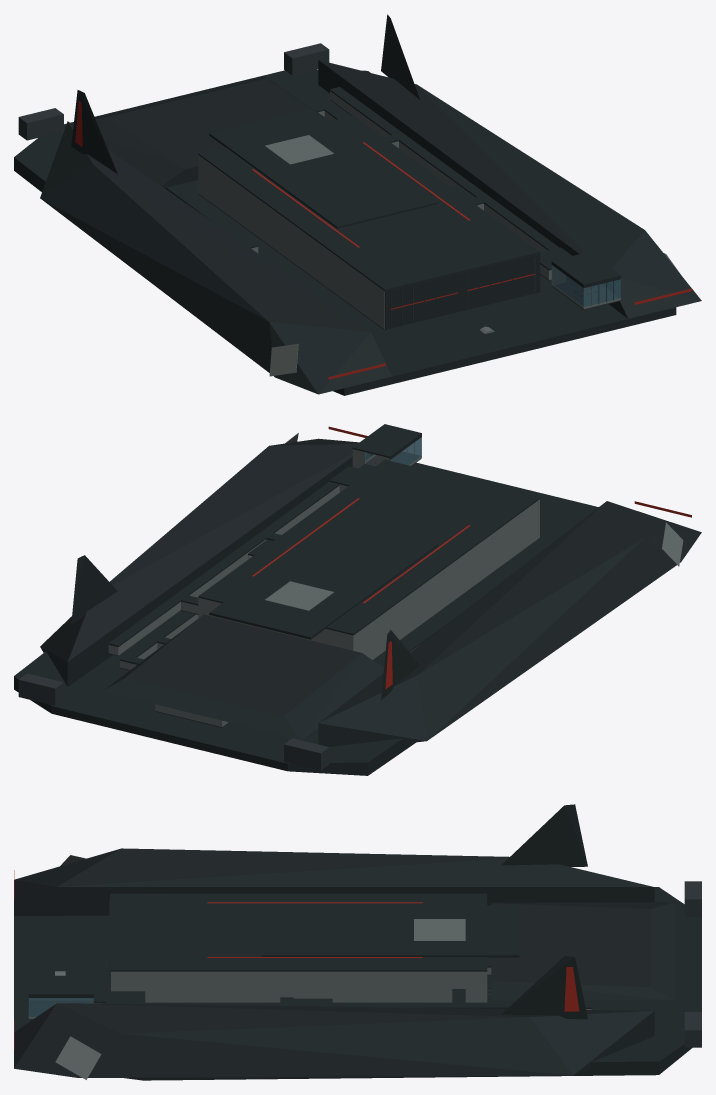
3 renders of one model, top to bottom at view 1: azimuth 30°, elevation 25°; view 2: azimuth 150°, elevation 25°; view 3: azimuth 270°, elevation 25°, orthographic.
Parts seen in each view (by area): view 1: mothership-roof-painted, mothership-side-hull--1-painted, mothership-side-hull-1-painted, mothership-painted, mothership-interior-walls-painted, mothership-door-1-painted, mothership-door--1-painted, breakaway-mothership-fin--1-painted, mothership-interior-walls-glazing, breakaway-mothership-fin-1-painted; view 2: mothership-roof-painted, mothership-side-hull--1-painted, mothership-side-hull-1-painted, mothership-painted, mothership-interior-walls-painted, breakaway-mothership-fin-1-painted, breakaway-mothership-fin--1-painted; view 3: mothership-roof-painted, mothership-side-hull-1-painted, mothership-side-hull--1-painted, mothership-painted, mothership-interior-walls-painted, breakaway-mothership-fin-1-painted, breakaway-mothership-fin--1-painted, mothership-interior-walls-glazing.
Part boxes in pixels (<box>): mothership-roof-painted: <box>66,75,621,290</box>; mothership-side-hull--1-painted: <box>40,121,391,394</box>; mothership-side-hull-1-painted: <box>318,60,701,318</box>; mothership-painted: <box>14,43,676,395</box>; mothership-interior-walls-painted: <box>164,91,620,329</box>; mothership-door-1-painted: <box>462,253,540,310</box>; mothership-door--1-painted: <box>385,272,462,329</box>; breakaway-mothership-fin--1-painted: <box>71,90,117,173</box>; mothership-interior-walls-glazing: <box>551,265,620,307</box>; breakaway-mothership-fin-1-painted: <box>381,14,419,99</box>; mothership-roof-painted: <box>102,424,540,739</box>; mothership-side-hull--1-painted: <box>318,501,701,746</box>; mothership-side-hull-1-painted: <box>40,426,373,686</box>; mothership-painted: <box>14,453,598,775</box>; mothership-interior-walls-painted: <box>108,435,539,726</box>; breakaway-mothership-fin-1-painted: <box>71,555,117,624</box>; breakaway-mothership-fin--1-painted: <box>381,630,419,699</box>; mothership-roof-painted: <box>28,893,673,1008</box>; mothership-side-hull-1-painted: <box>14,1003,654,1079</box>; mothership-side-hull--1-painted: <box>14,848,654,915</box>; mothership-painted: <box>14,881,701,1080</box>; mothership-interior-walls-painted: <box>28,967,591,1018</box>; breakaway-mothership-fin-1-painted: <box>501,956,587,1019</box>; breakaway-mothership-fin--1-painted: <box>501,804,587,866</box>; mothership-interior-walls-glazing: <box>28,998,93,1017</box>.
Bounding box in the file's own units: 1170 × 291 × 1684.
